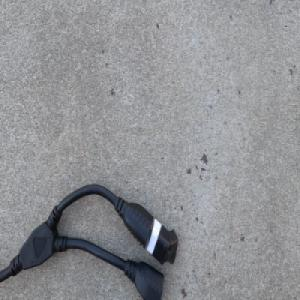Wire: (0, 182, 178, 300)
